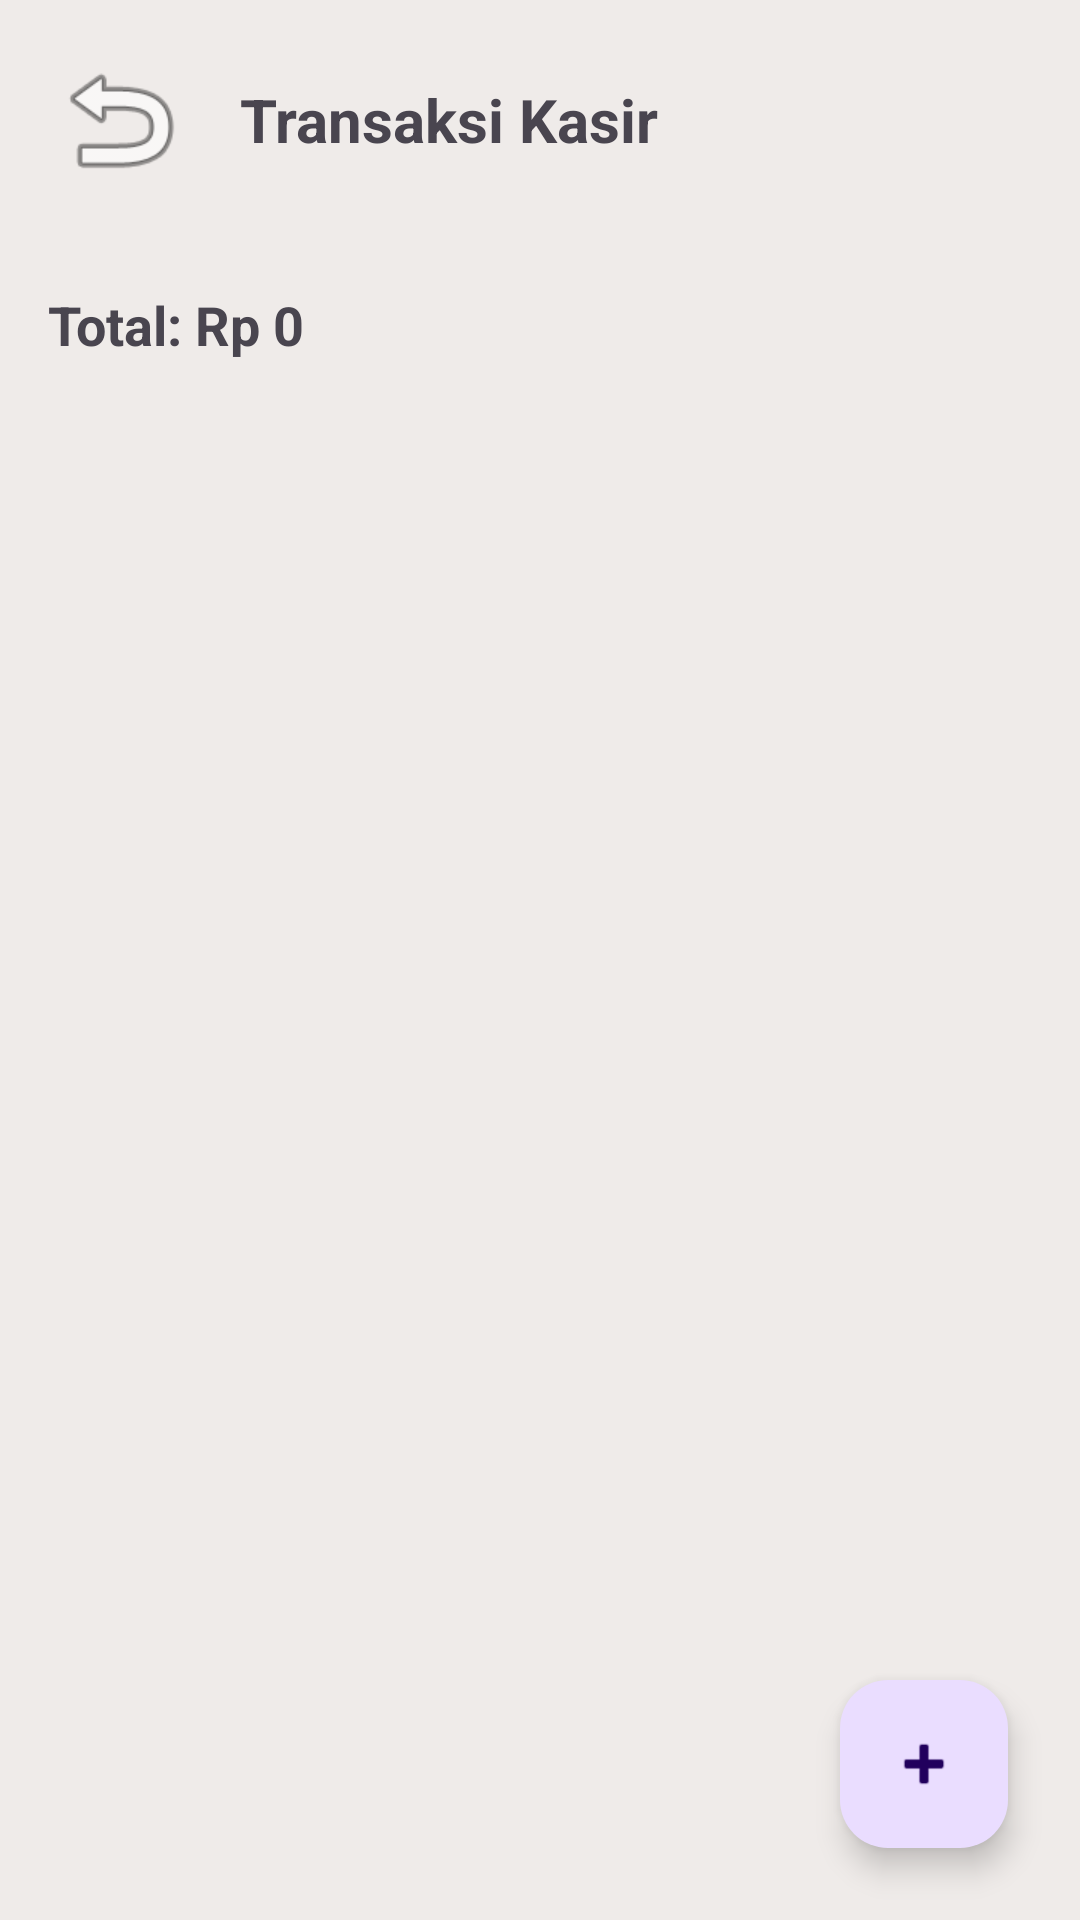

Icons on this 1080×1920 Android screen, each with its box as (x1, y1, x2, y2):
add: (840, 1680, 1008, 1848)
Back: (70, 74, 174, 168)
